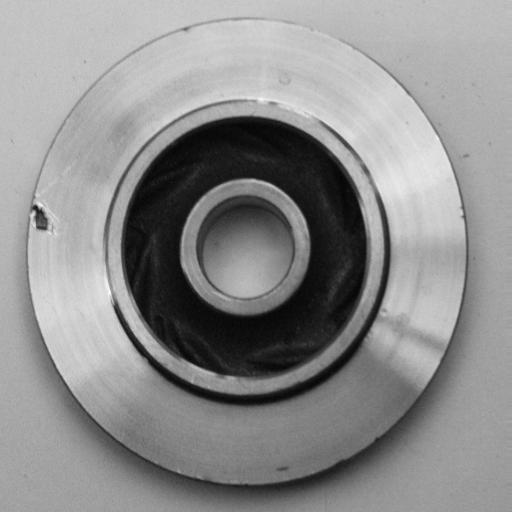crack: (23, 190, 68, 247)
scratch: (253, 86, 333, 130)
unpolished_casting: (27, 16, 472, 489)
